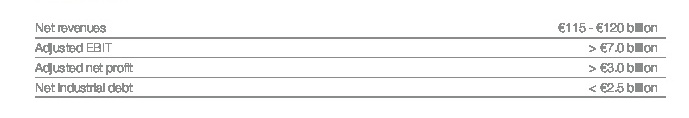table: (0, 0, 689, 118)
